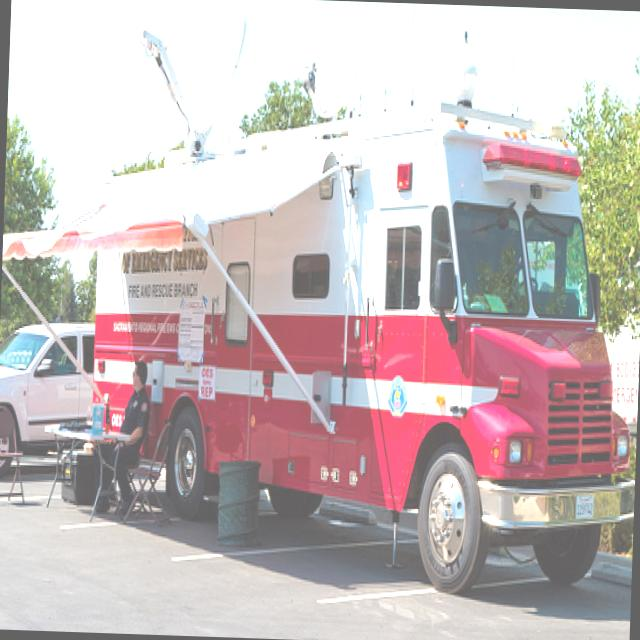Vehicle: (0, 0, 640, 600), (0, 305, 95, 475), (0, 313, 94, 477)
